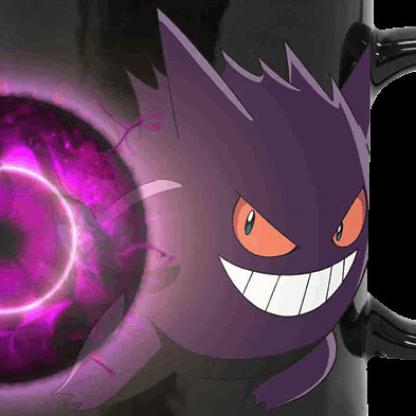Gengar: (9, 12, 375, 416)
